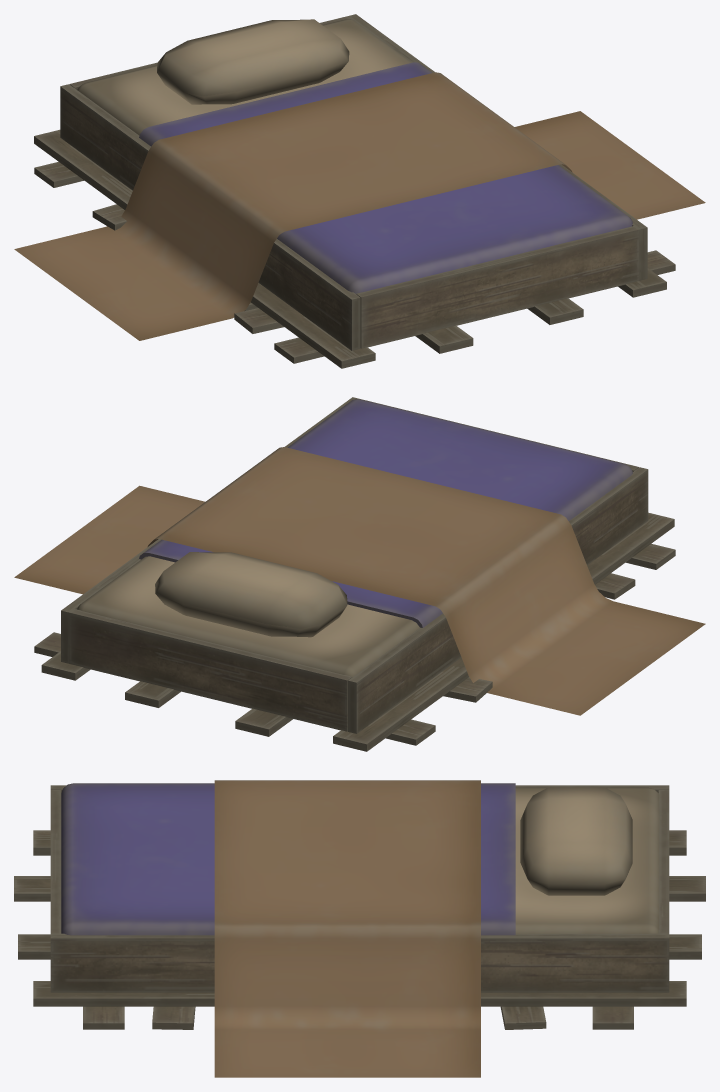
Rendered from SM_Bed_00.fbx.
3 views of the same model, one above another, from view 1: azimuth 30°, elevation 25°; view 2: azimuth 150°, elevation 25°; view 3: azimuth 270°, elevation 25° (orthographic). The views are drawn at different scales.
Parts seen in each view (by area): view 1: SM_Bed; view 2: SM_Bed; view 3: SM_Bed.
Boxes of the visible parts, x1,y1,x2,y2 form: SM_Bed: [14, 14, 705, 368]; SM_Bed: [14, 397, 705, 751]; SM_Bed: [14, 780, 705, 1077].
Size of the model in its own units: 322 by 56.79 by 321.
